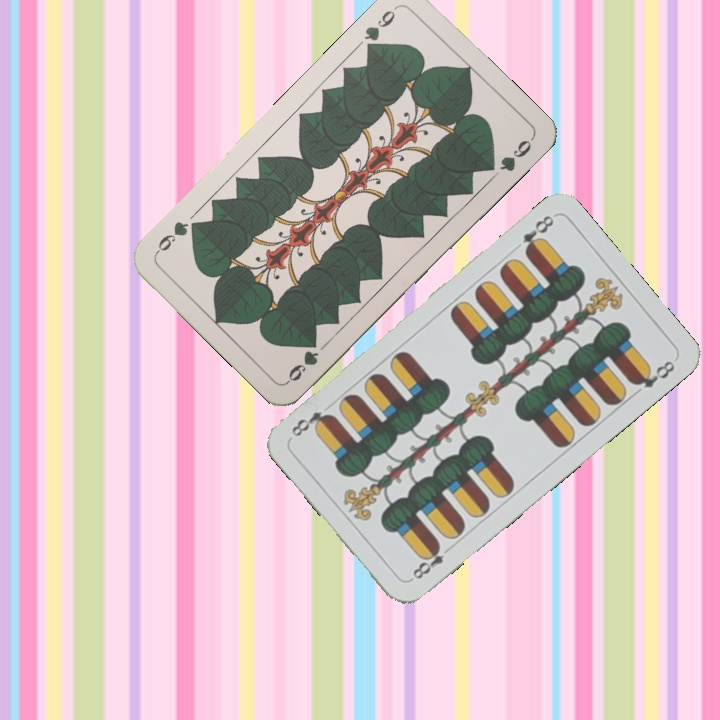E8: (406, 539, 455, 582), (519, 211, 557, 258)
G9: (359, 2, 401, 56), (283, 346, 321, 385)
